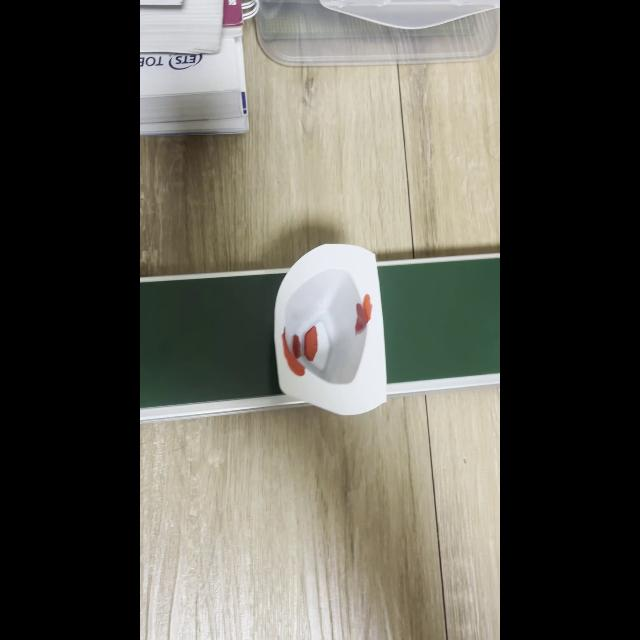dirty: (272, 274, 383, 396)
